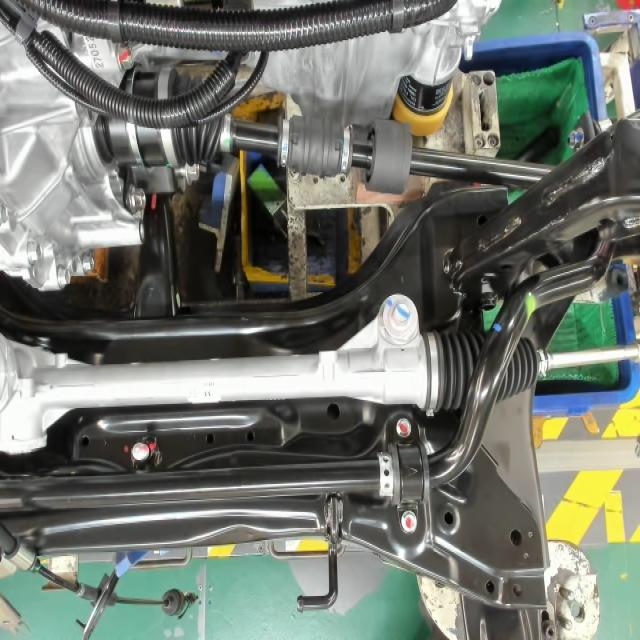Bar Stabilizer-HJ: (522, 287, 537, 325)
